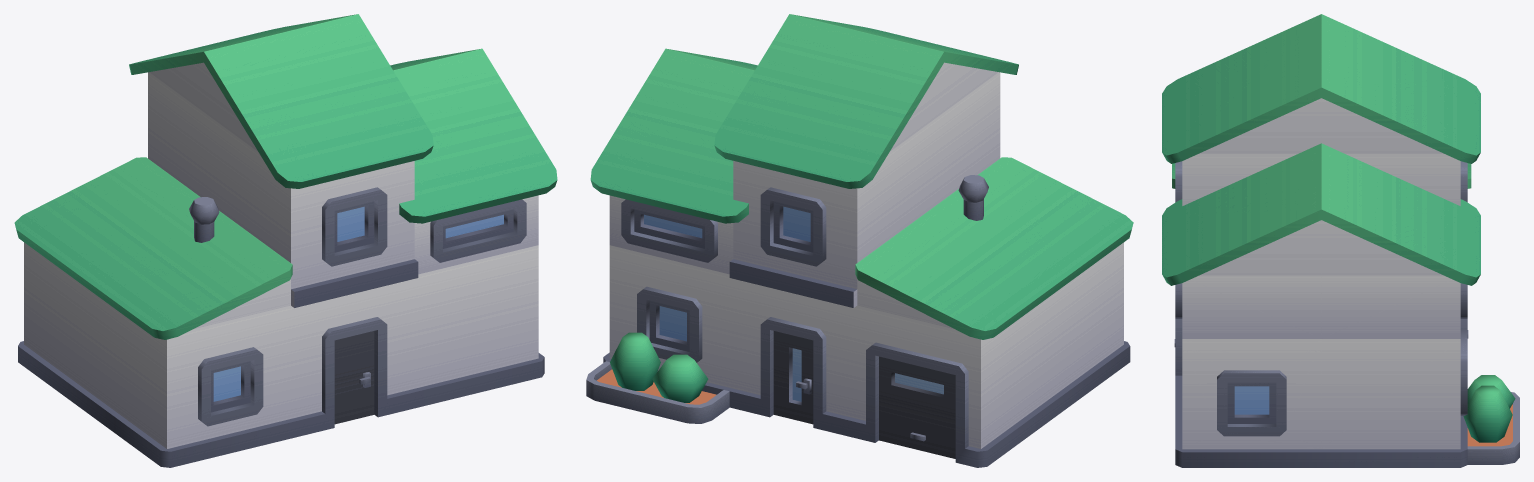
The model's file is building-type-c.draco.glb.
3 views of the same model, side by side, from view 1: azimuth 30°, elevation 25°; view 2: azimuth 150°, elevation 25°; view 3: azimuth 270°, elevation 25° (orthographic). The views are drawn at different scales.
Visible parts, largest first — view 1: building-type-c; view 2: building-type-c; view 3: building-type-c.
Boxes of the visible parts, x1=… form: building-type-c: x1=14, y1=14, x2=557, y2=467; building-type-c: x1=586, y1=14, x2=1133, y2=467; building-type-c: x1=1162, y1=14, x2=1519, y2=467.
Bounding box in the file's own units: 1.29 × 1.03 × 1.03.
1 material, 1 textured.
